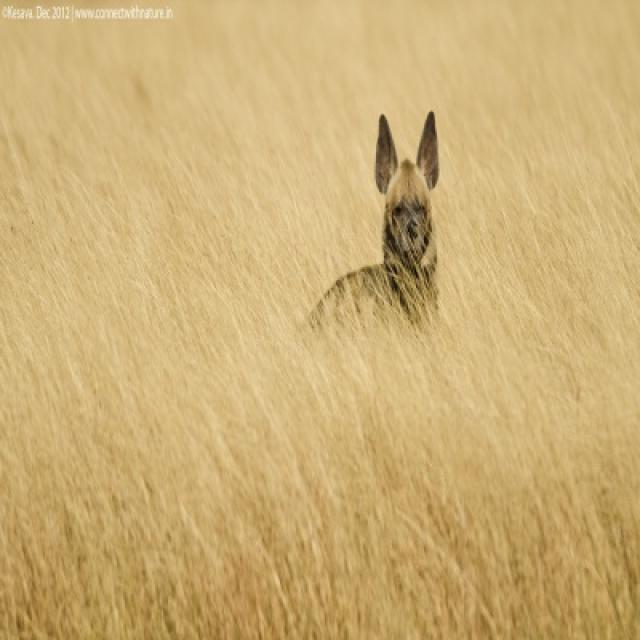hyena: (378, 112, 438, 310)
